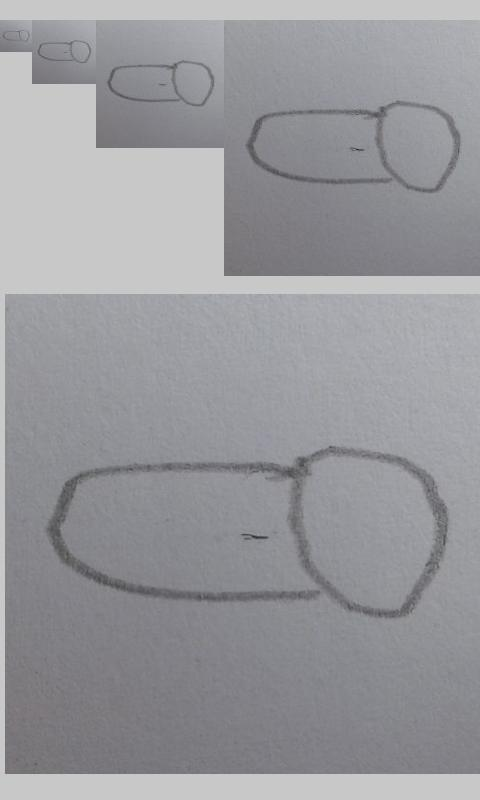switch: (44, 443, 451, 621), (246, 99, 462, 193), (107, 60, 215, 107), (37, 39, 92, 64), (3, 30, 30, 43)
